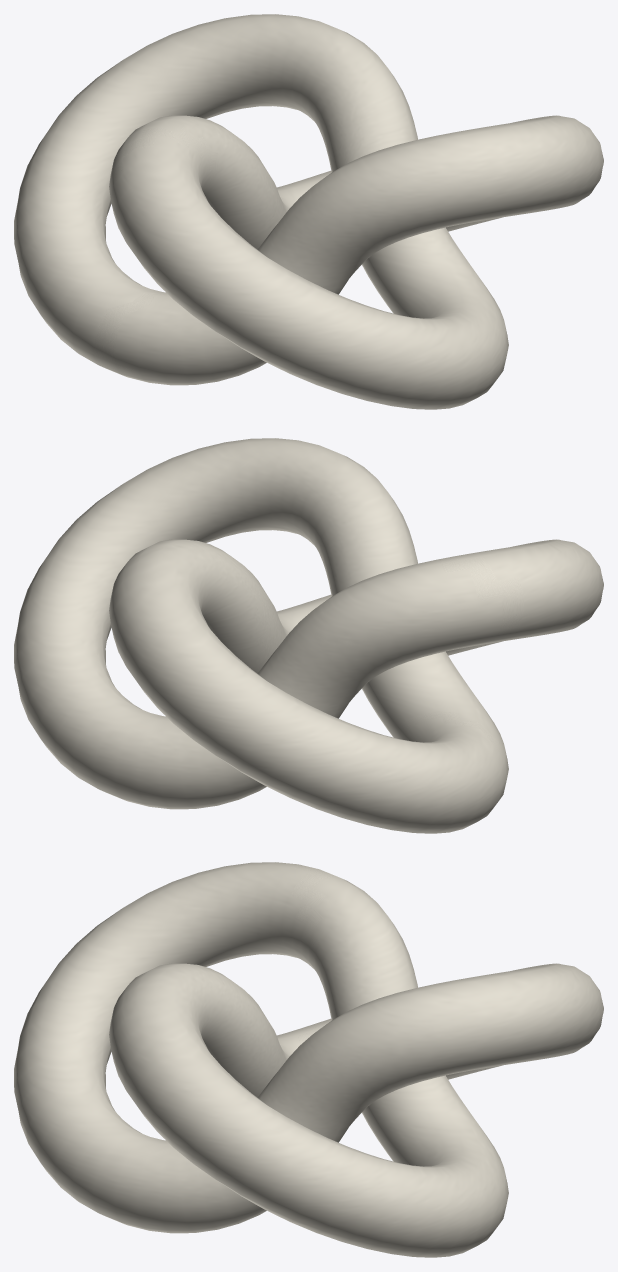
File: intact.glb
The picture shows the model from 3 angles, top to bottom: view 1: azimuth 30°, elevation 25°; view 2: azimuth 150°, elevation 25°; view 3: azimuth 270°, elevation 25°; orthographic projection.
Parts seen in each view (by area): view 1: ornament-component-000-ivory; view 2: ornament-component-000-ivory; view 3: ornament-component-000-ivory.
Boxes of the visible parts, x1,y1,x2,y2 form: ornament-component-000-ivory: (14,14,603,409); ornament-component-000-ivory: (14,438,603,833); ornament-component-000-ivory: (14,862,603,1257).
Bounding box in the file's own units: 0.1533 × 0.0728 × 0.16.
1 material, 1 textured.
